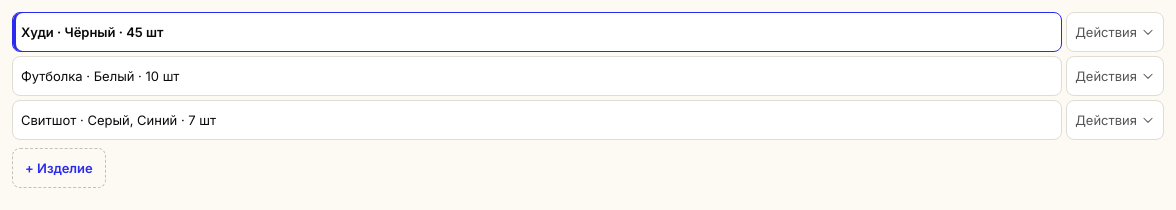
Test: ItemList — список изделий заказа › после удаления фокус на соседней позиции
Click the 2nd button "Действия": x=1115, y=76 top-left (1066, 56), bottom-right (1164, 96)
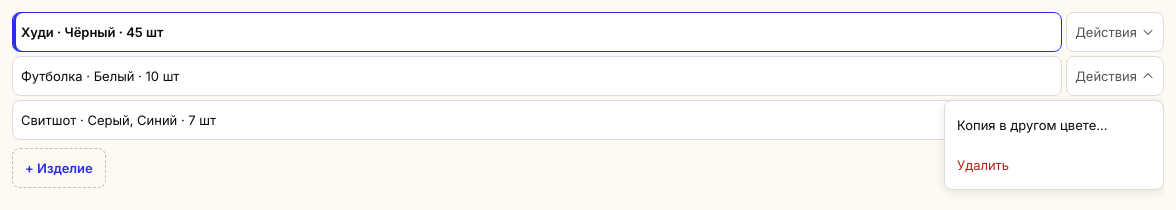
Click the button with aria-label "Удалить —": x=1054, y=165 top-left (949, 145), bottom-right (1159, 185)
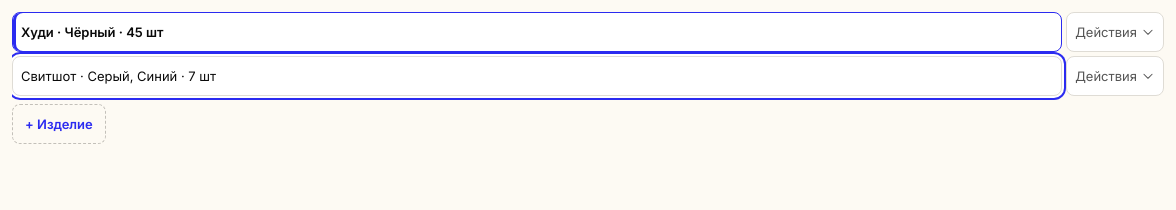
expect the button "Футболка · Белый · 10 шт" is gone: met
